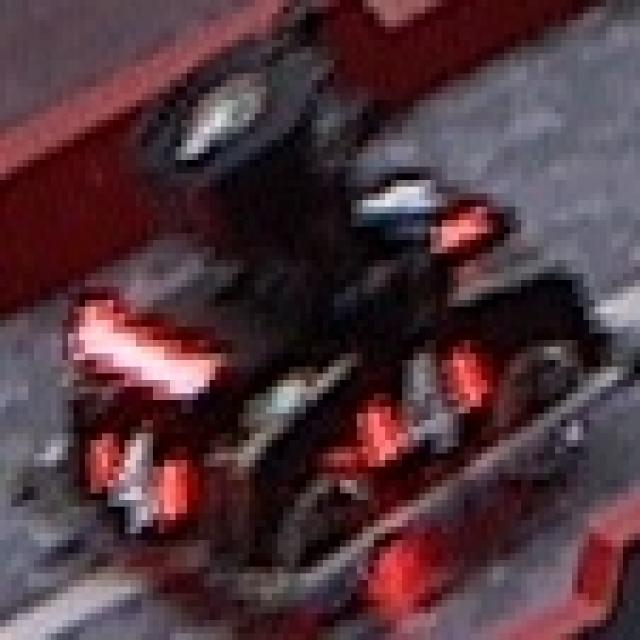R4: (346, 327, 487, 480), (65, 410, 196, 530), (340, 160, 481, 233)
